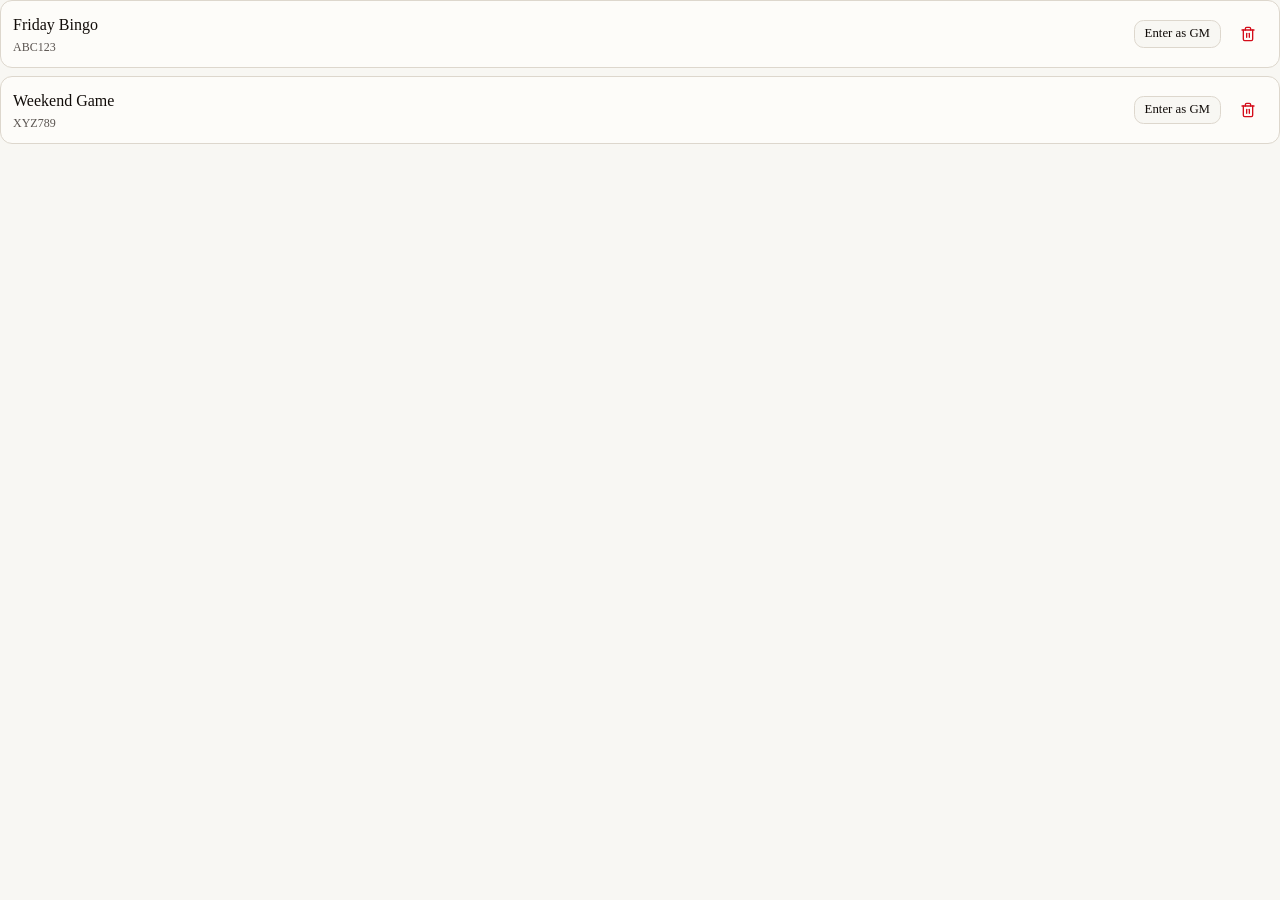
Test case: MyRoomsList › opens confirm dialog when delete button is clicked
Click the button named "delete" in the row of "Friday Bingo": (1248, 34) [1229,20,1267,48]
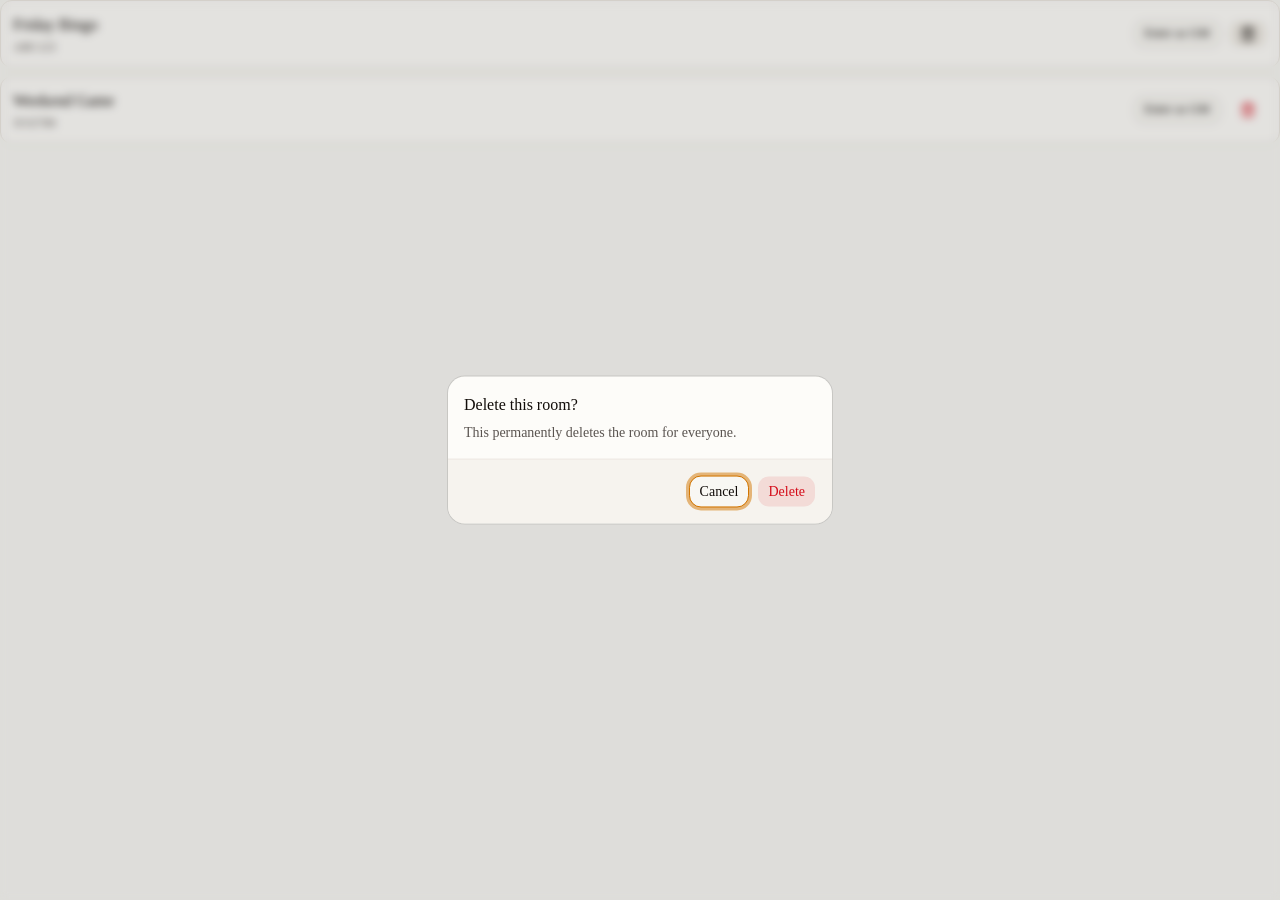
Check: the heading "Delete this room?" is shown, box [464,392,578,416]
Check: the text "This permanently deletes the room for everyone." is shown, box [464,422,736,442]
